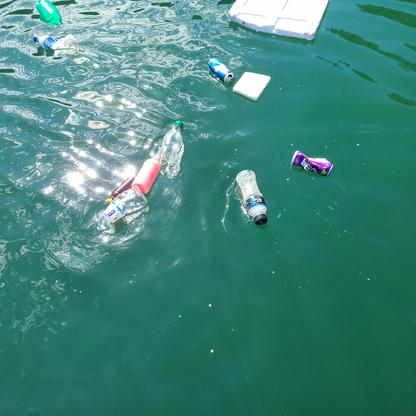can: (291, 149, 334, 175), (206, 58, 235, 82)
foam: (224, 1, 329, 41), (235, 71, 272, 98)
plastic bottle: (96, 186, 149, 226), (237, 170, 267, 223), (163, 121, 185, 178), (137, 152, 162, 191), (34, 33, 78, 50), (37, 2, 65, 25)
